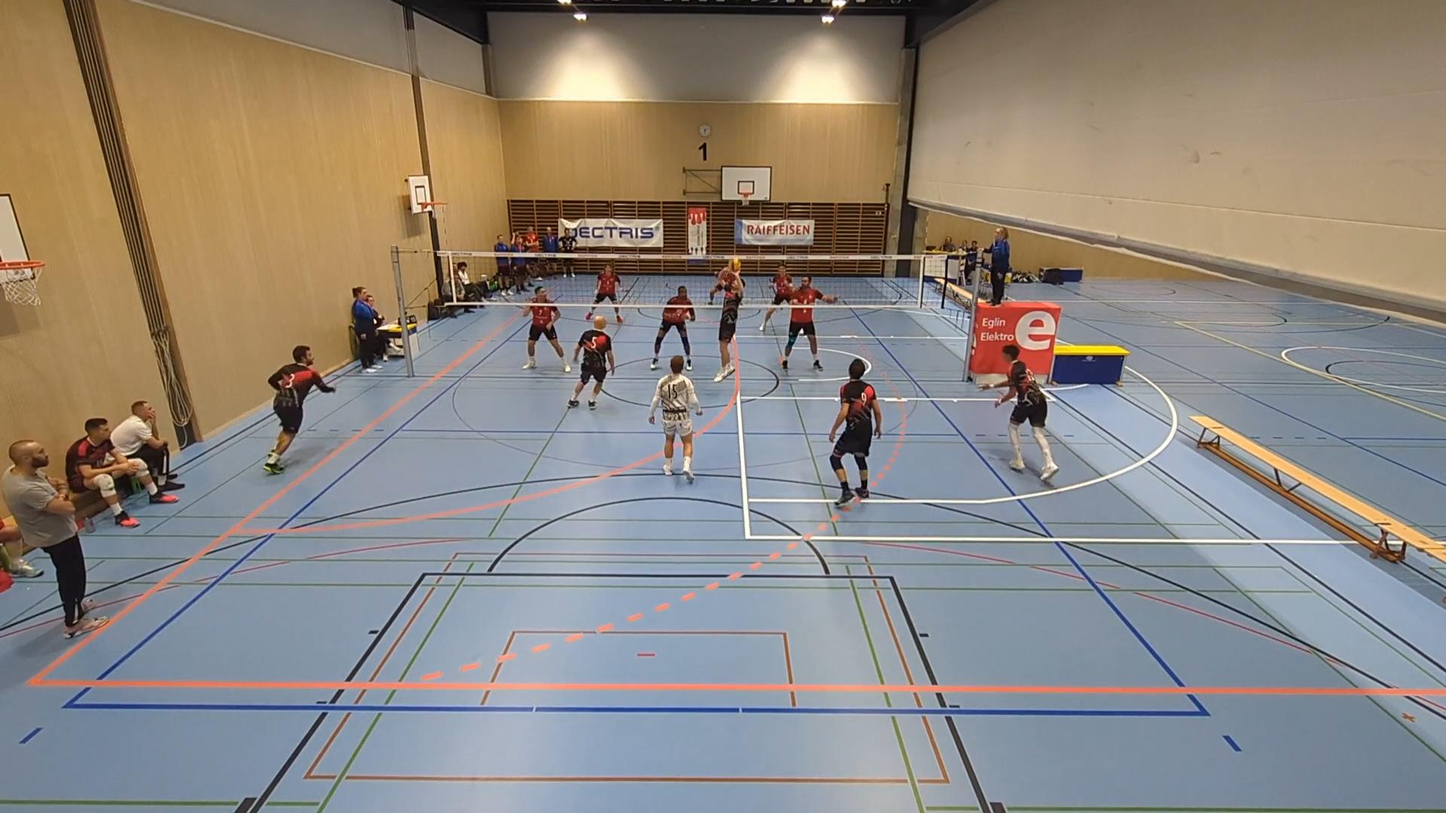Player: (981, 344, 1057, 483), (263, 346, 334, 473), (828, 358, 882, 505), (648, 356, 702, 483), (780, 276, 837, 369), (568, 316, 615, 409), (523, 286, 570, 372), (650, 287, 695, 370), (584, 263, 624, 323), (760, 263, 793, 331), (709, 257, 745, 304)
Set: (716, 260, 744, 380)
ball: (723, 255, 742, 270)
